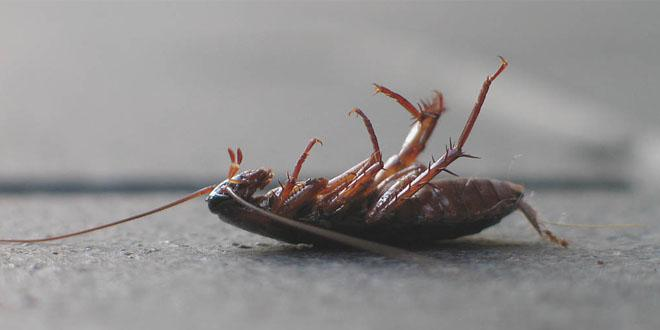cockroach: (202, 127, 540, 260)
